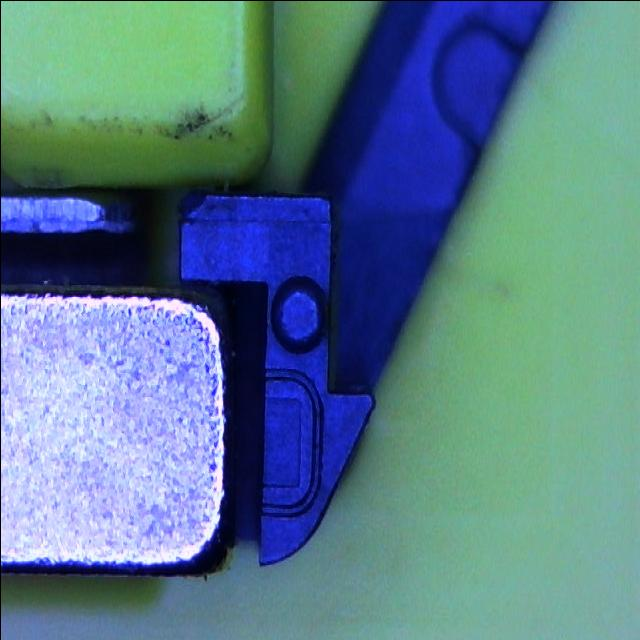noResin: (258, 364, 324, 520)
